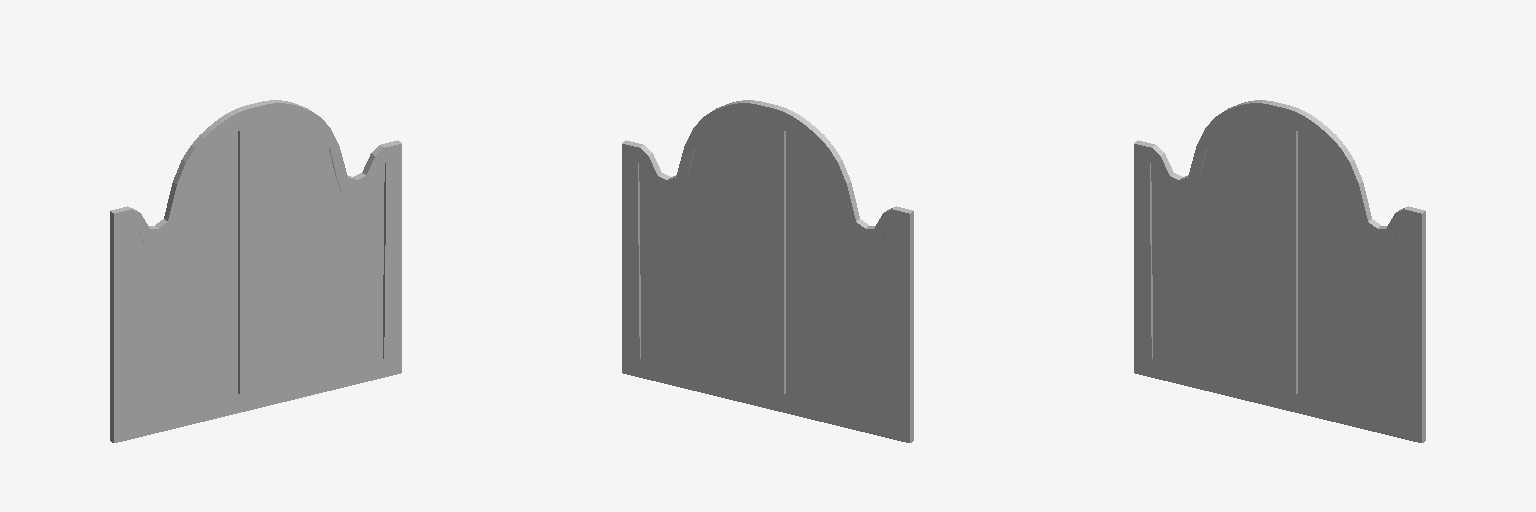
Rendered from saloonDoors.obj.
The picture shows the model from 3 angles: view 1: azimuth 30°, elevation 25°; view 2: azimuth 150°, elevation 25°; view 3: azimuth 330°, elevation 25°; orthographic projection.
Visible parts, largest first — view 1: default; view 2: default; view 3: default.
Part boxes in pixels (x1,y1,x2,y2): default: (110, 100, 401, 442); default: (622, 100, 913, 442); default: (1134, 100, 1425, 442).
Size of the model in its own units: 2 by 2 by 0.05.